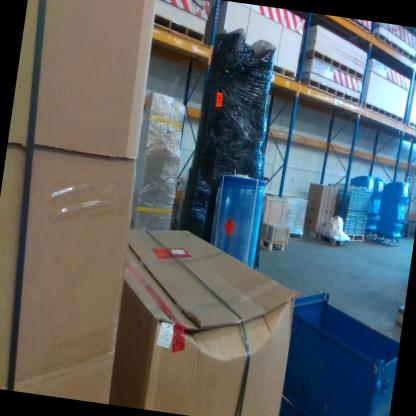pallet: (343, 232, 364, 243), (288, 231, 303, 240)
